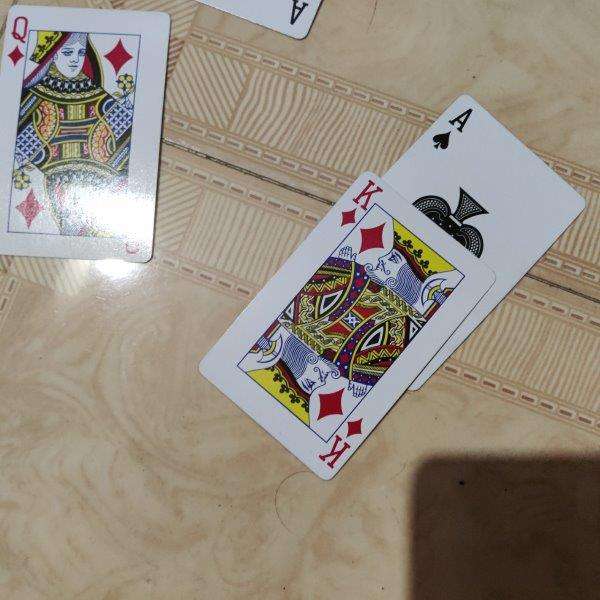Ace of Spades: (381, 93, 587, 392)
King of Diamonds: (197, 171, 496, 481)
Queen of Diamonds: (1, 5, 171, 263)
